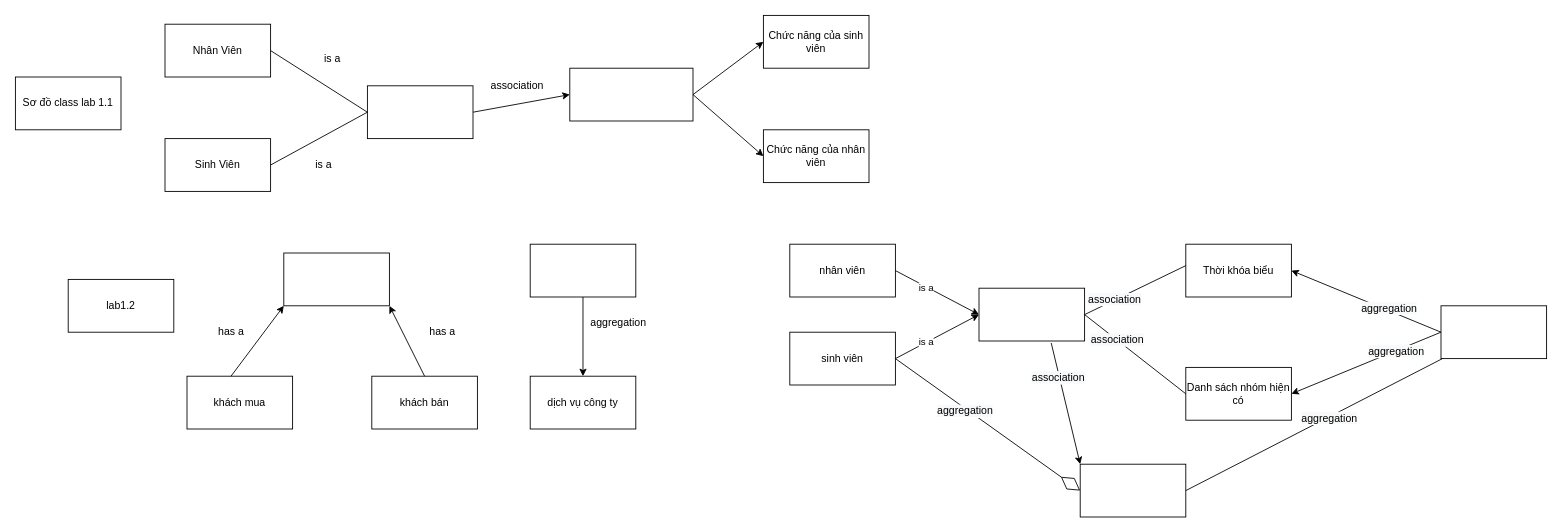
Image size: 1562x532. Some labels were removed from this diagram. The centre of each missing label's shape, as x and y in pixels:
Báo cáo: point (1132, 490)
công ty: point (582, 270)
Danh Sách Chức Năng: point (631, 94)
khách: point (336, 279)
khóa học: point (1493, 332)
người dung: point (1031, 314)
Người dùng: point (420, 112)
